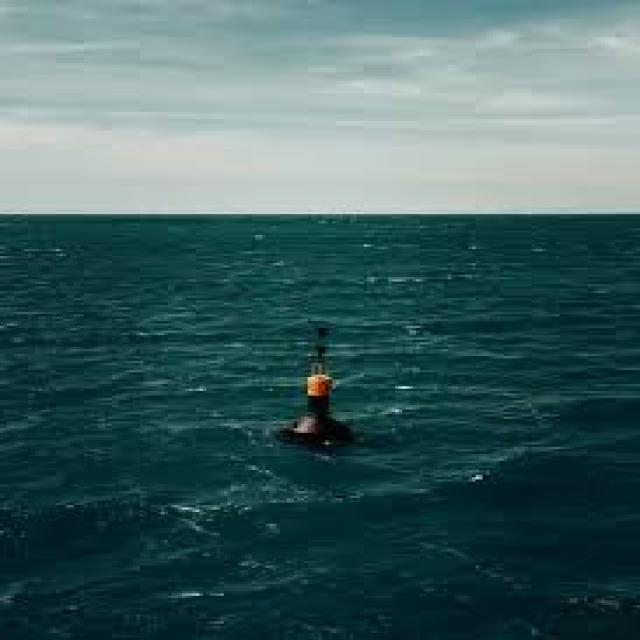buoy: (269, 314, 374, 448)
